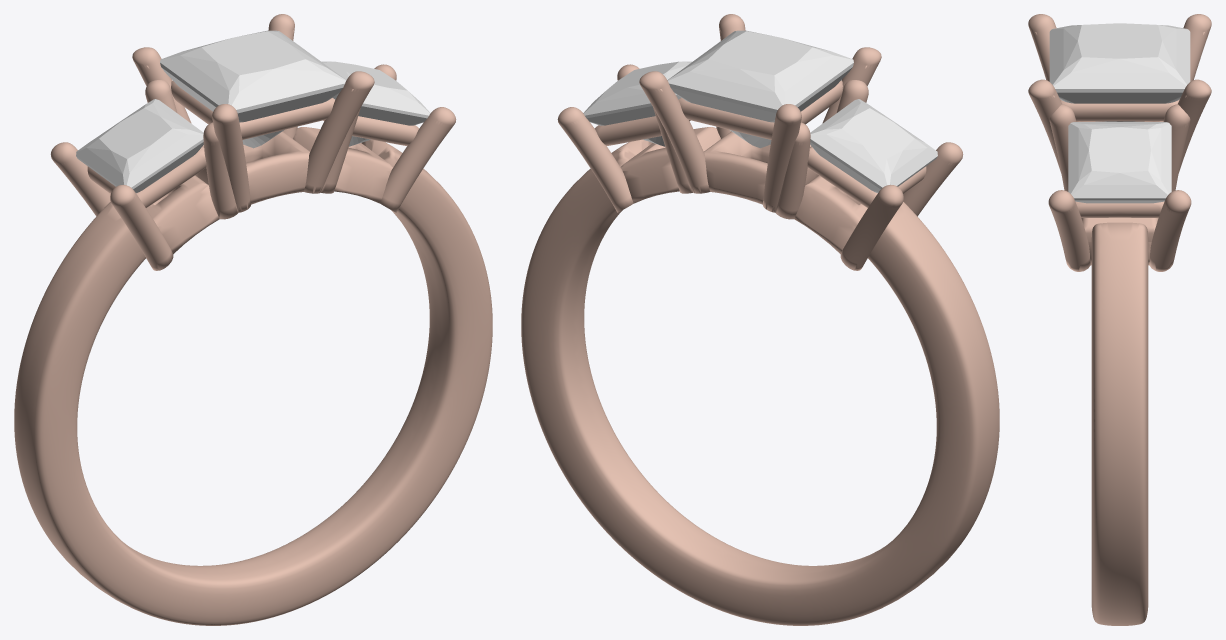
The model's file is diamond-princess-rosegold-4prong-straightband-3stone.glb.
3 views of the same model, side by side, from view 1: azimuth 30°, elevation 25°; view 2: azimuth 150°, elevation 25°; view 3: azimuth 270°, elevation 25° (orthographic).
Visible parts, largest first — view 1: metal, stone, side, side.001; view 2: metal, stone, side, side.001; view 3: metal, stone, side.001.
Part boxes in pixels (<box>): metal: <box>14,14,492,625</box>; stone: <box>160,30,346,148</box>; side: <box>76,99,203,193</box>; side.001: <box>321,61,430,146</box>; metal: <box>521,14,999,625</box>; stone: <box>667,30,853,148</box>; side: <box>810,99,937,193</box>; side.001: <box>583,61,692,146</box>; metal: <box>1028,14,1211,625</box>; stone: <box>1049,23,1190,121</box>; side.001: <box>1068,122,1171,203</box>.
Size of the model in its own units: 20.5 by 23.85 by 7.08.
